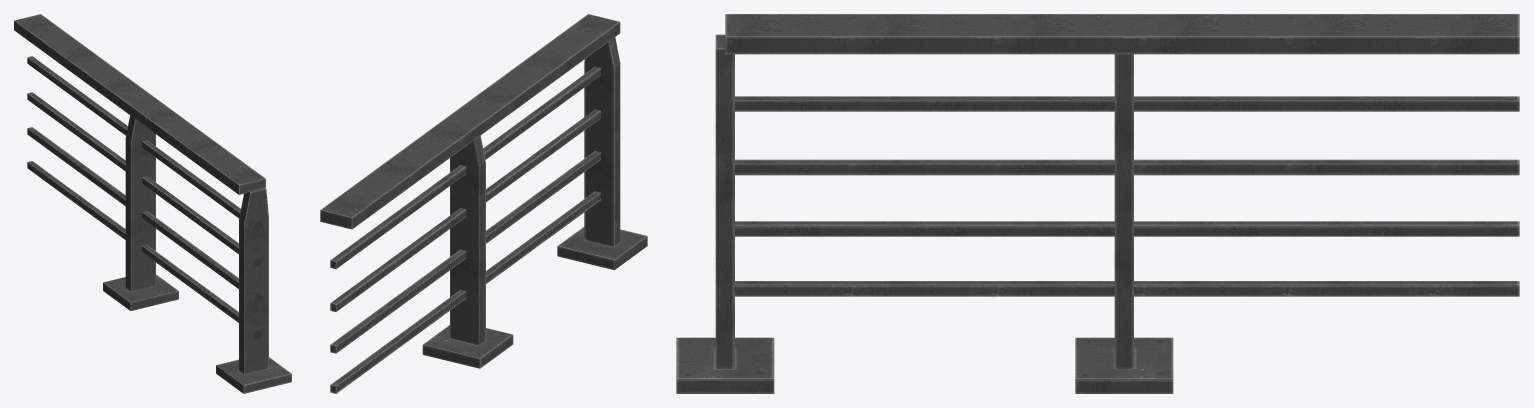
Rendered from SM_railing_a_200.fbx.
3 renders of one model, left to right at view 1: azimuth 30°, elevation 25°; view 2: azimuth 150°, elevation 25°; view 3: azimuth 270°, elevation 25°, orthographic. The views are drawn at different scales.
Visible parts, largest first — view 1: pCube104; view 2: pCube104; view 3: pCube104.
Boxes of the visible parts, left/top/right/bottom form: pCube104: left=14, top=14, right=291, bottom=393; pCube104: left=320, top=14, right=647, bottom=393; pCube104: left=676, top=14, right=1519, bottom=393.
Size of the model in its own units: 0.2463 by 0.958 by 2.11.
